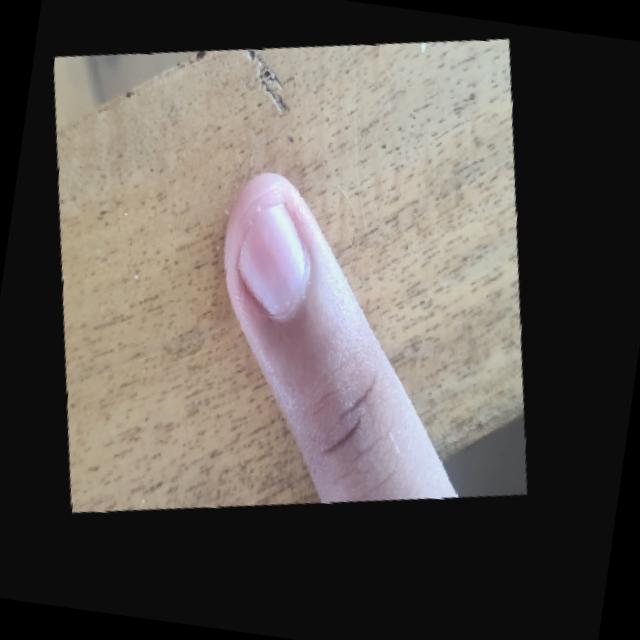Nail: (238, 205, 305, 313)
